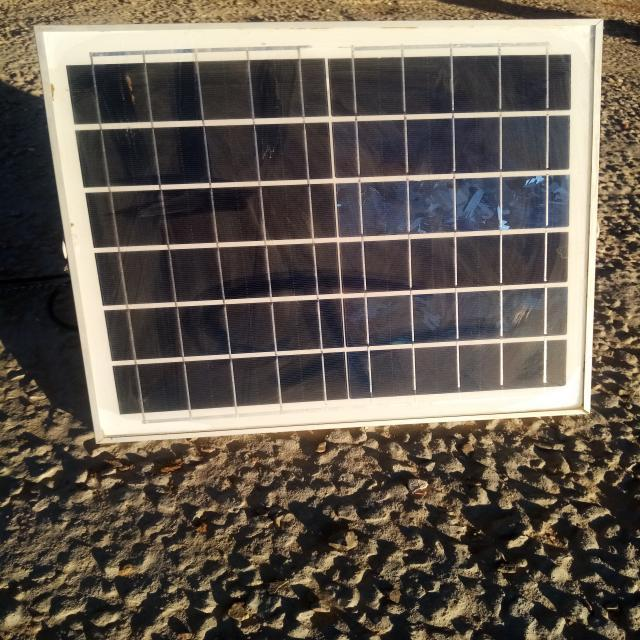faulty: (35, 22, 609, 438)
